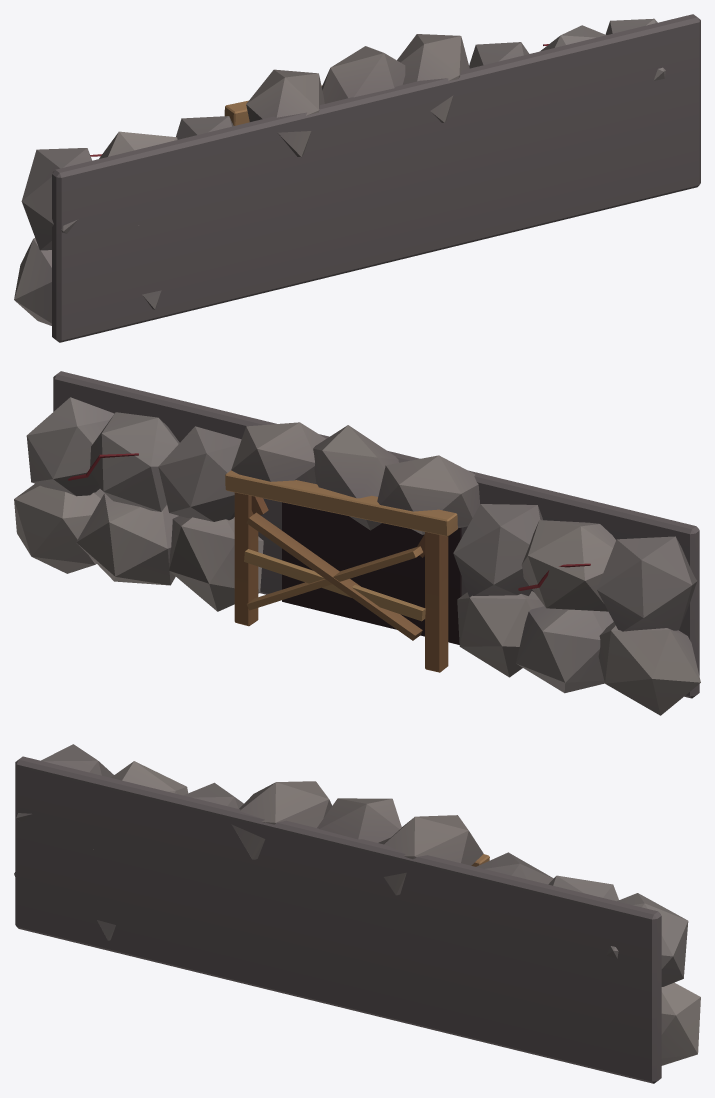
The model's file is BM_EntranceBoarded.glb.
The picture shows the model from 3 angles, top to bottom: view 1: azimuth 30°, elevation 25°; view 2: azimuth 150°, elevation 25°; view 3: azimuth 330°, elevation 25°; orthographic projection.
Visible parts, largest first — view 1: BM_EntranceBoarded__Body; view 2: BM_EntranceBoarded__Body; view 3: BM_EntranceBoarded__Body.
Part boxes in pixels (bbox=[...]): BM_EntranceBoarded__Body: bbox=[14, 14, 700, 342]; BM_EntranceBoarded__Body: bbox=[14, 371, 700, 715]; BM_EntranceBoarded__Body: bbox=[14, 744, 700, 1083].
Bounding box in the file's own units: 57.36 × 16.7 × 7.48.
